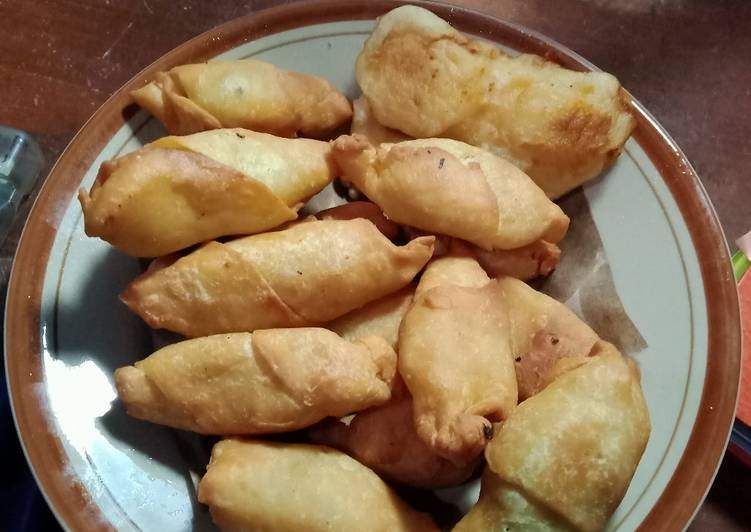pisang_molen: (112, 219, 438, 329), (78, 129, 348, 251), (105, 325, 391, 436), (327, 130, 581, 252), (397, 255, 519, 457), (125, 55, 342, 128)
